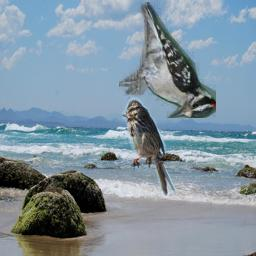Sparrow: (122, 97, 177, 196)
Woodpecker: (119, 2, 216, 118)
